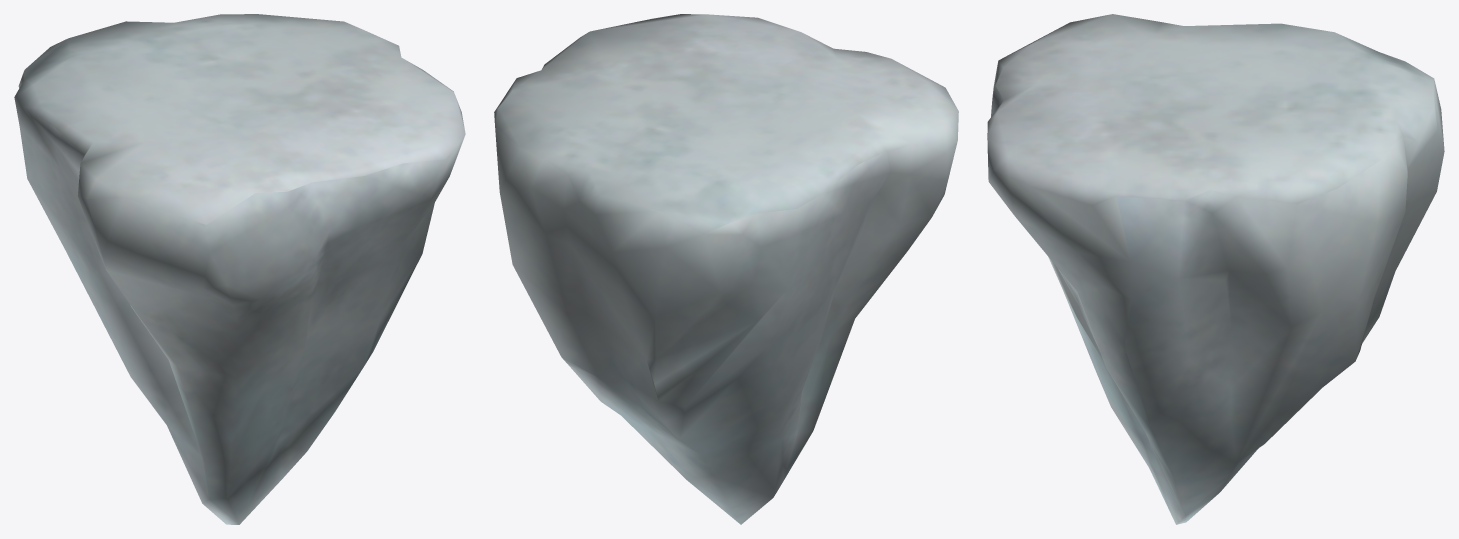
File: P_CliffClassic3.obj
3 views of the same model, side by side, from view 1: azimuth 30°, elevation 25°; view 2: azimuth 150°, elevation 25°; view 3: azimuth 270°, elevation 25° (orthographic). The views are drawn at different scales.
Bounding box in the file's own units: 55.19 × 59.28 × 56.61.
